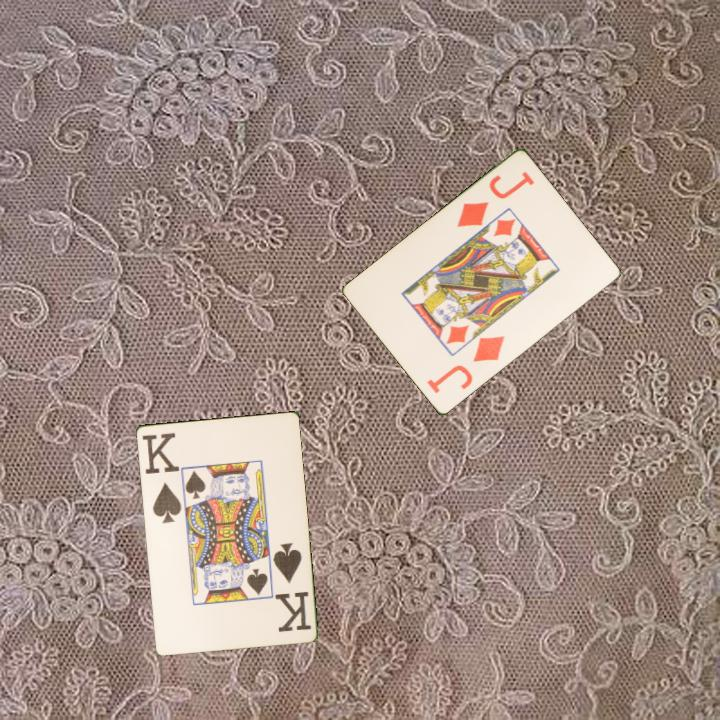Jd: (423, 332, 508, 397), (453, 168, 538, 231)
Ks: (138, 429, 184, 526), (269, 539, 314, 635)
